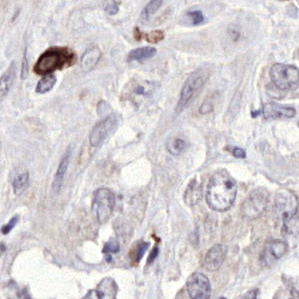Lymphocyte: (34, 47, 77, 75)
